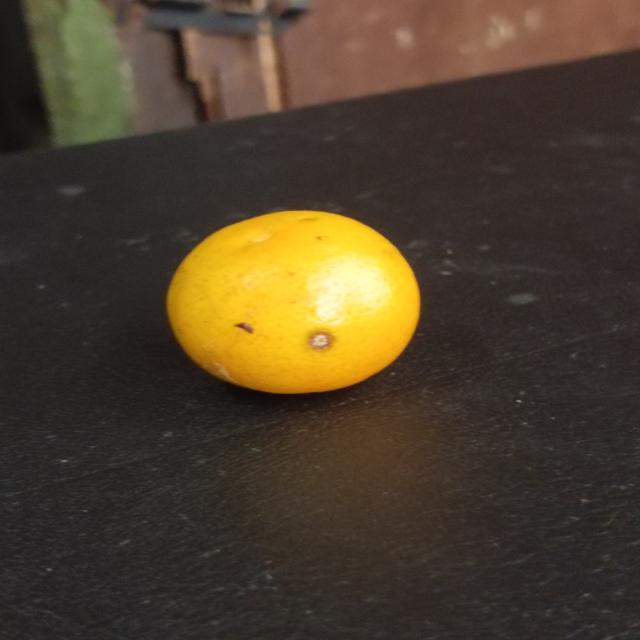black spot: (153, 205, 429, 405)
